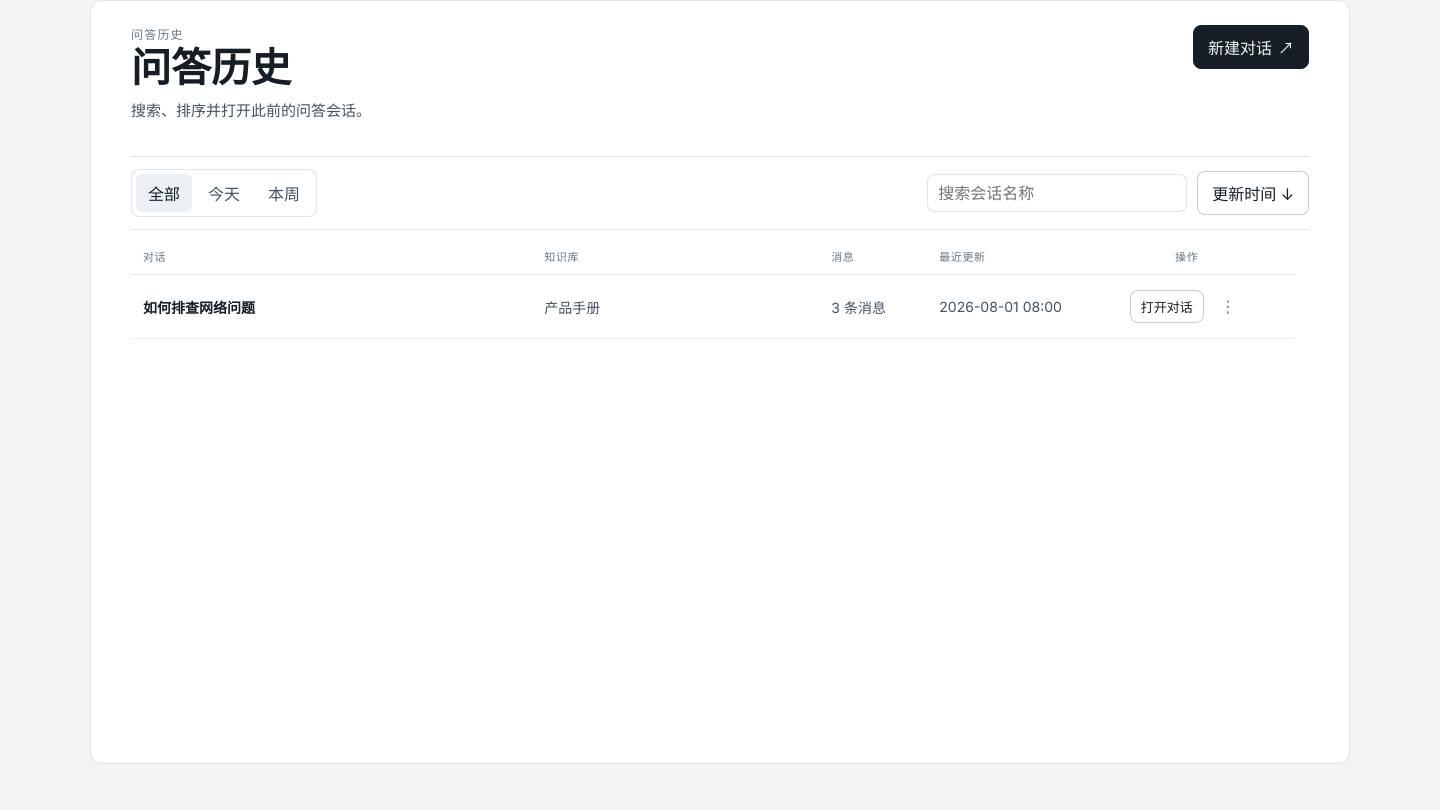
Test: 问答历史页（服务端搜索/排序/分页） › 重命名失败：toast 反馈且对话框保持打开
The image size is (1440, 810).
Expected: the link "如何排查网络问题" is shown, top-left (143, 298), bottom-right (255, 316)
Step 1. Click the button named "会话操作" → (1228, 306), box top-left (1212, 290), bottom-right (1244, 322)
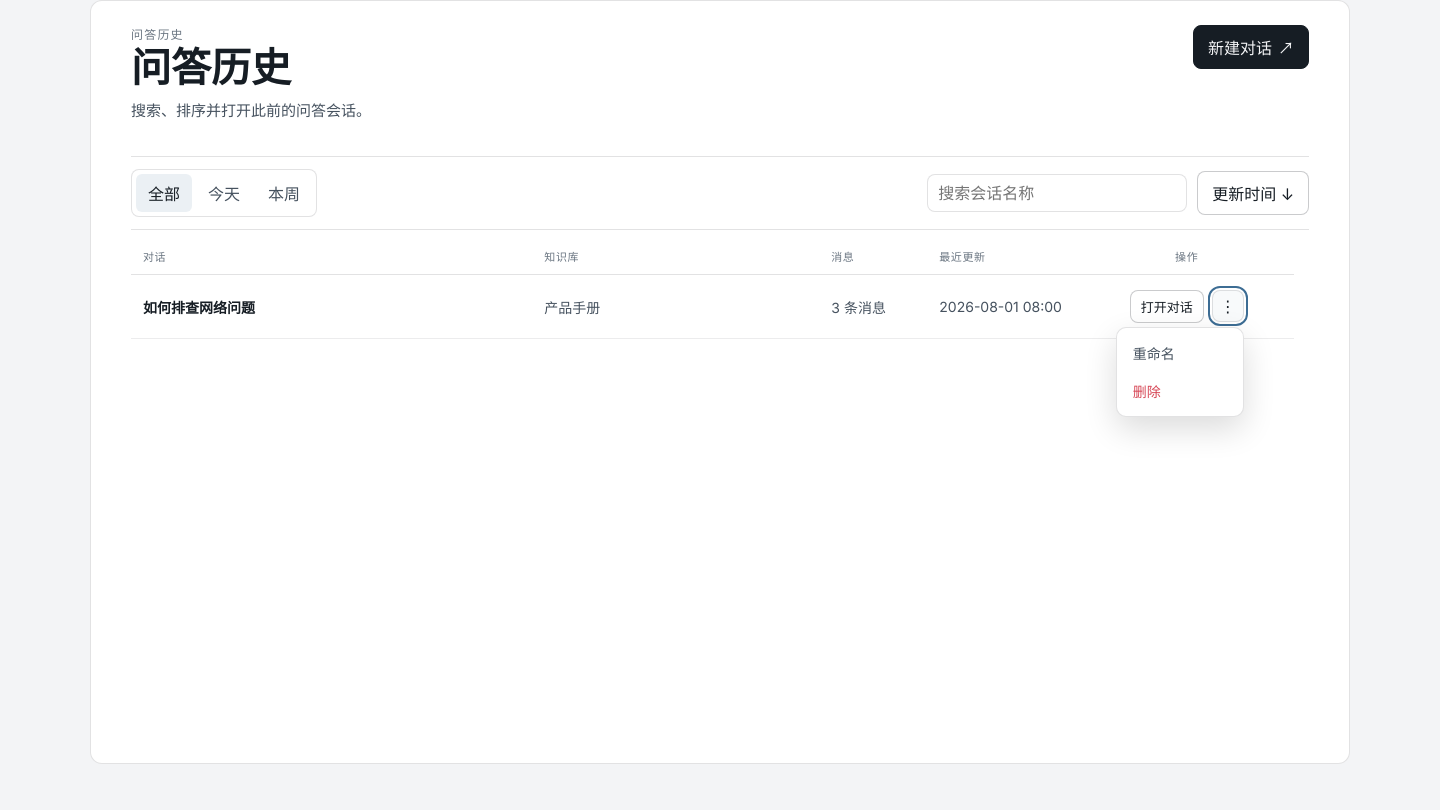
Step 2. Click the menu item "重命名" → (1180, 353), box top-left (1123, 334), bottom-right (1237, 372)
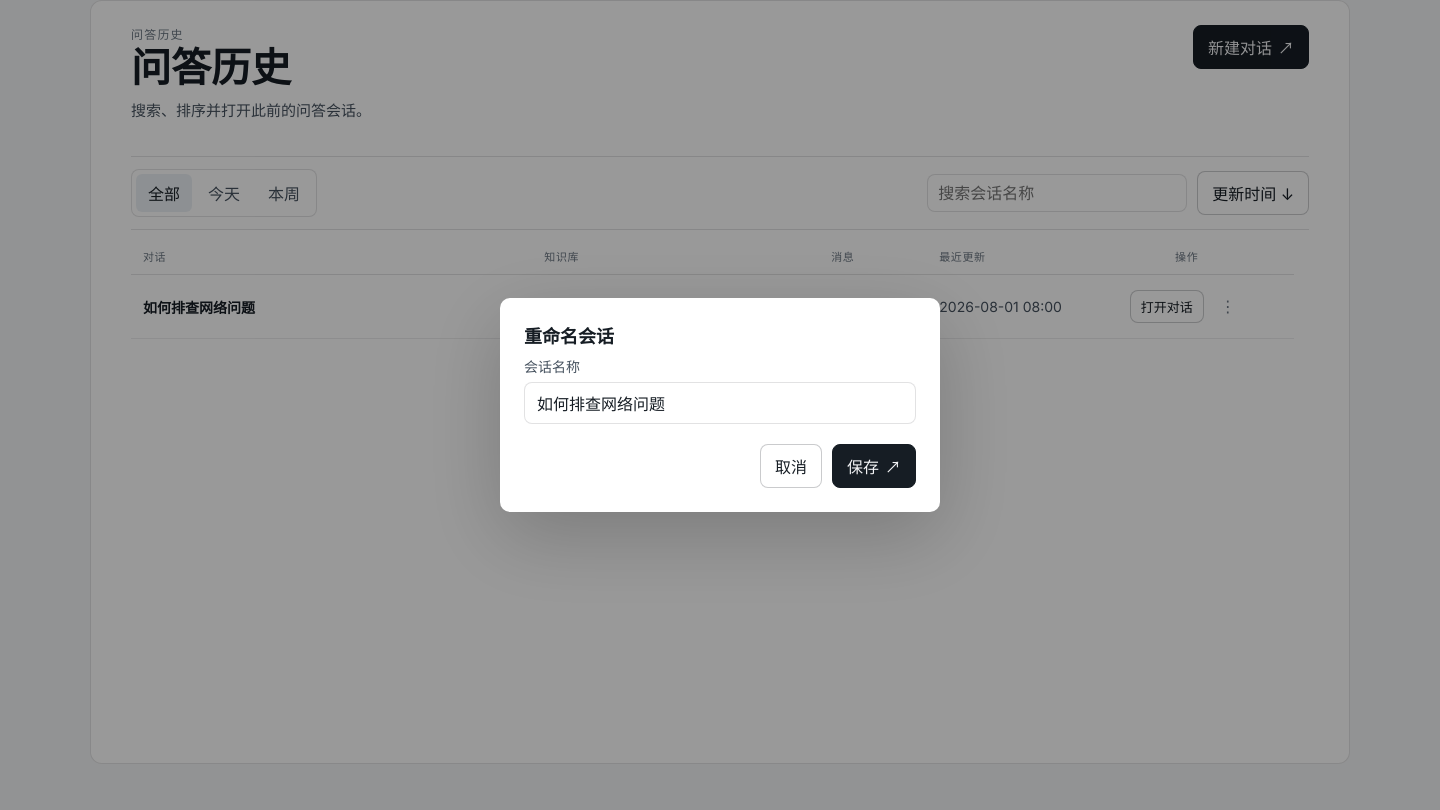
Step 3. Click the button "保存" → (874, 466), box top-left (832, 444), bottom-right (916, 488)
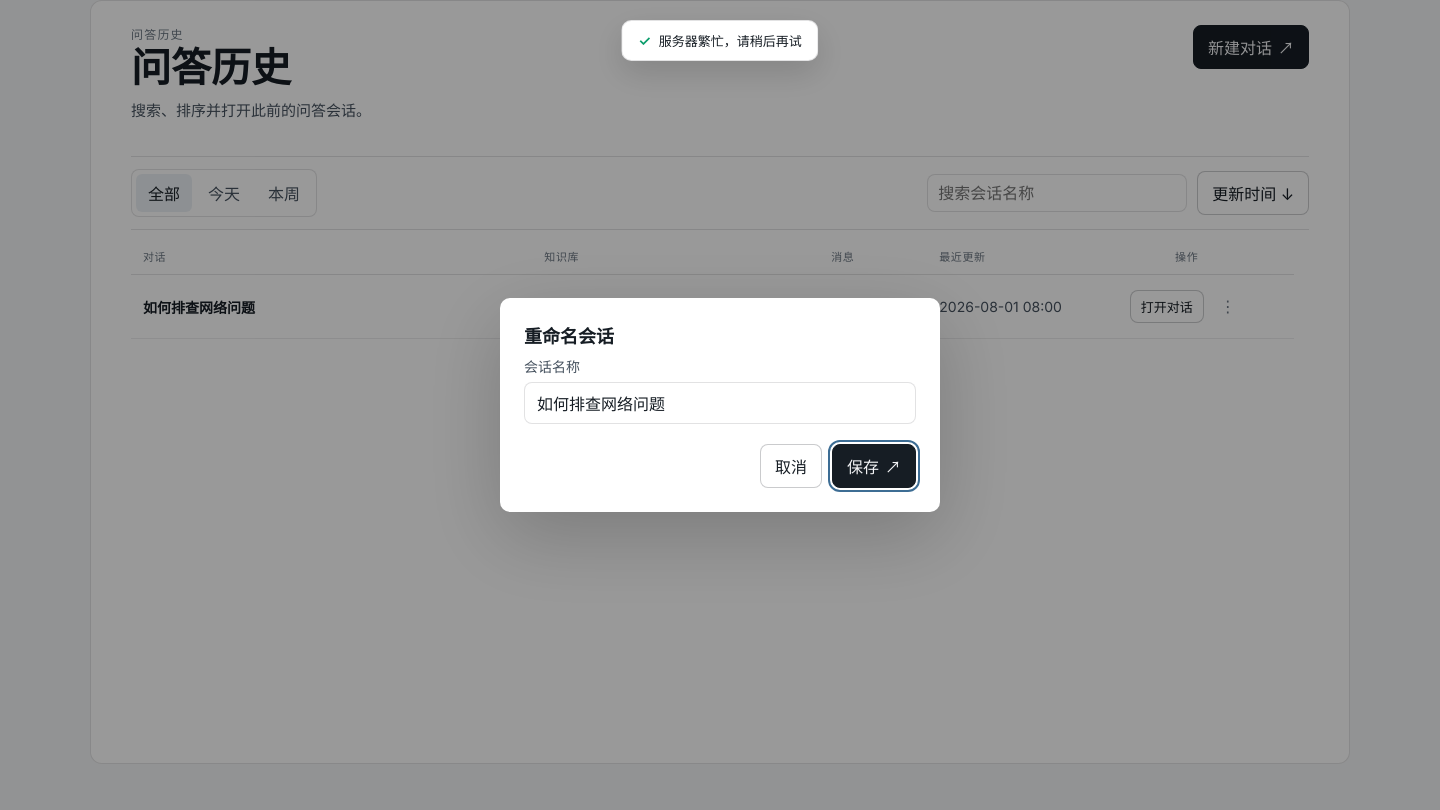
Result: the text "服务器繁忙，请稍后再试" is shown at top-left (659, 33), bottom-right (802, 49)
